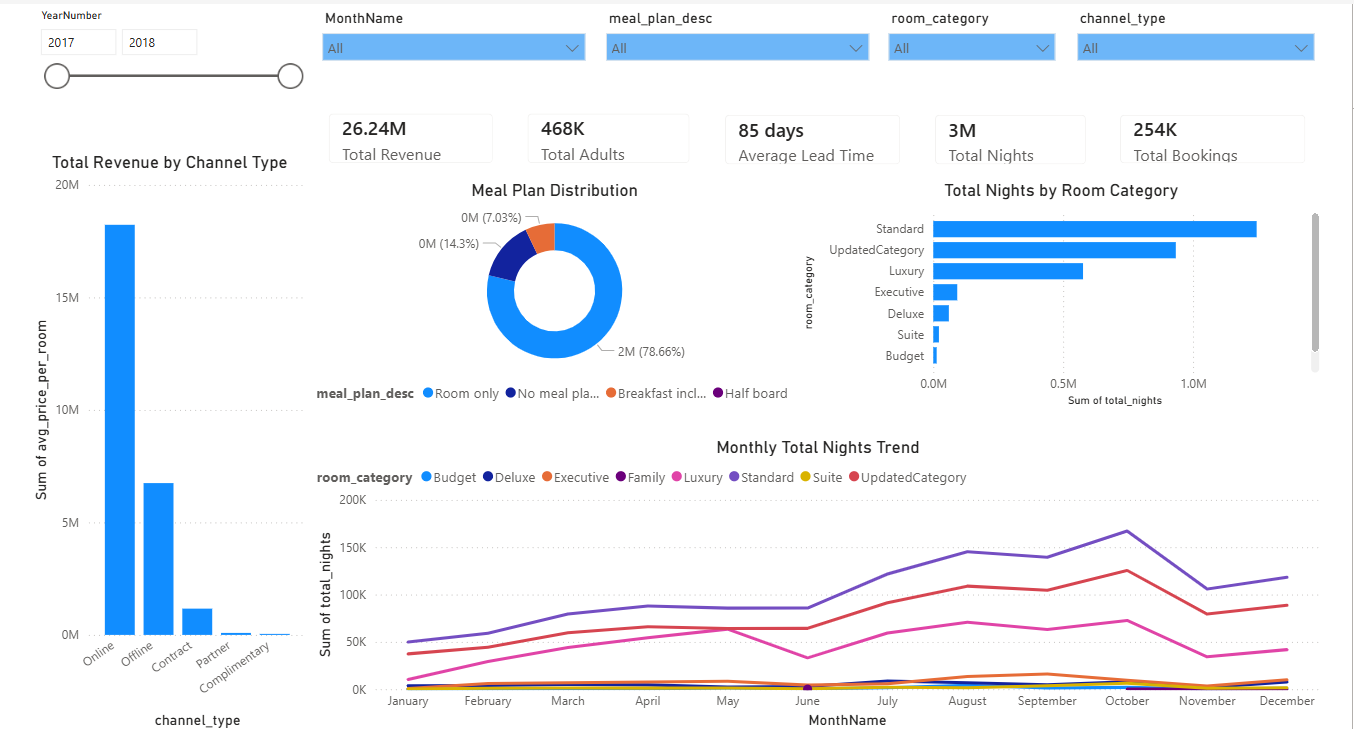

What the dashboard file says about the page in this screenshot:
{"tool":"powerbi","page":{"name":"Hotel Performance Dashboard","canvas":[1280,720],"ordinal":0},"visuals":[{"type":"slicer","fields":{"Values":["DimRoom.room_category"]},"box":[840,0,185.6,91.1],"z":0},{"type":"slicer","fields":{"Values":["DimMealPlan.meal_plan_desc"]},"box":[560,0,280,91.1],"z":1000},{"type":"slicer","fields":{"Values":["DimDate.YearNumber"]},"box":[0,0,280,91.1],"z":2000},{"type":"clusteredBarChart","title":"Total Nights by Room Category","fields":{"Y":["Sum(FactHotelReservation.total_nights)"],"Category":["DimRoom.room_category"]},"box":[760,174.4,520,228.9],"z":3000},{"type":"lineChart","title":"Monthly Total Nights Trend","fields":{"Category":["DimDate.MonthName"],"Y":["Sum(FactHotelReservation.total_nights)"],"Series":["DimRoom.room_category"]},"box":[280,426.7,1000,293.3],"z":4000},{"type":"cardVisual","fields":{"Data":["Sum(FactHotelReservation.total_nights)"]},"box":[878.9,92.2,183.3,83.3],"z":5000},{"type":"cardVisual","fields":{"Data":["Sum(FactHotelReservation.no_of_adults)"]},"box":[476.7,91.1,194.4,83.3],"z":6000},{"type":"cardVisual","fields":{"Data":["Sum(FactHotelReservation.avg_price_per_room)"]},"box":[280,91.1,196.7,83.3],"z":7000},{"type":"donutChart","title":"Meal Plan Distribution","fields":{"Y":["Sum(FactHotelReservation.total_nights)"],"Category":["DimMealPlan.meal_plan_desc"]},"box":[280,174.4,480,228.9],"z":8000},{"type":"slicer","fields":{"Values":["DimDate.MonthName"]},"box":[280,0,280,91.1],"z":9000},{"type":"slicer","fields":{"Values":["DimMarketSegment.channel_type"]},"box":[1025.6,0,254.4,91.1],"z":10000},{"type":"cardVisual","fields":{"Data":["Sum(FactHotelReservation.booking_count)"]},"box":[1062.2,92.2,217.8,82.2],"z":11000},{"type":"columnChart","title":"Total Revenue by Channel Type","fields":{"Category":["DimMarketSegment.channel_type"],"Y":["Sum(FactHotelReservation.avg_price_per_room)"]},"box":[0,145.6,280,574.4],"z":12000},{"type":"cardVisual","fields":{"Data":["DimBookingStatus.Average Lead Time"]},"box":[671.1,92.2,207.8,83.3],"z":13000}]}

Visuals, with their boxes on the page's 1280x720 design canvas (x1, y1, x2, y2). These are canvas units, not pixel positions in the 1354x729 screenshot, which may show the page scaled, cropped or inside an application window:
slicer - DimRoom.room_category: [x1=840, y1=0, x2=1026, y2=91]
slicer - DimMealPlan.meal_plan_desc: [x1=560, y1=0, x2=840, y2=91]
slicer - DimDate.YearNumber: [x1=0, y1=0, x2=280, y2=91]
"Total Nights by Room Category" clusteredBarChart: [x1=760, y1=174, x2=1280, y2=403]
"Monthly Total Nights Trend" lineChart: [x1=280, y1=427, x2=1280, y2=720]
cardVisual - Sum(FactHotelReservation.total_nights): [x1=879, y1=92, x2=1062, y2=176]
cardVisual - Sum(FactHotelReservation.no_of_adults): [x1=477, y1=91, x2=671, y2=174]
cardVisual - Sum(FactHotelReservation.avg_price_per_room): [x1=280, y1=91, x2=477, y2=174]
"Meal Plan Distribution" donutChart: [x1=280, y1=174, x2=760, y2=403]
slicer - DimDate.MonthName: [x1=280, y1=0, x2=560, y2=91]
slicer - DimMarketSegment.channel_type: [x1=1026, y1=0, x2=1280, y2=91]
cardVisual - Sum(FactHotelReservation.booking_count): [x1=1062, y1=92, x2=1280, y2=174]
"Total Revenue by Channel Type" columnChart: [x1=0, y1=146, x2=280, y2=720]
cardVisual - DimBookingStatus.Average Lead Time: [x1=671, y1=92, x2=879, y2=176]
